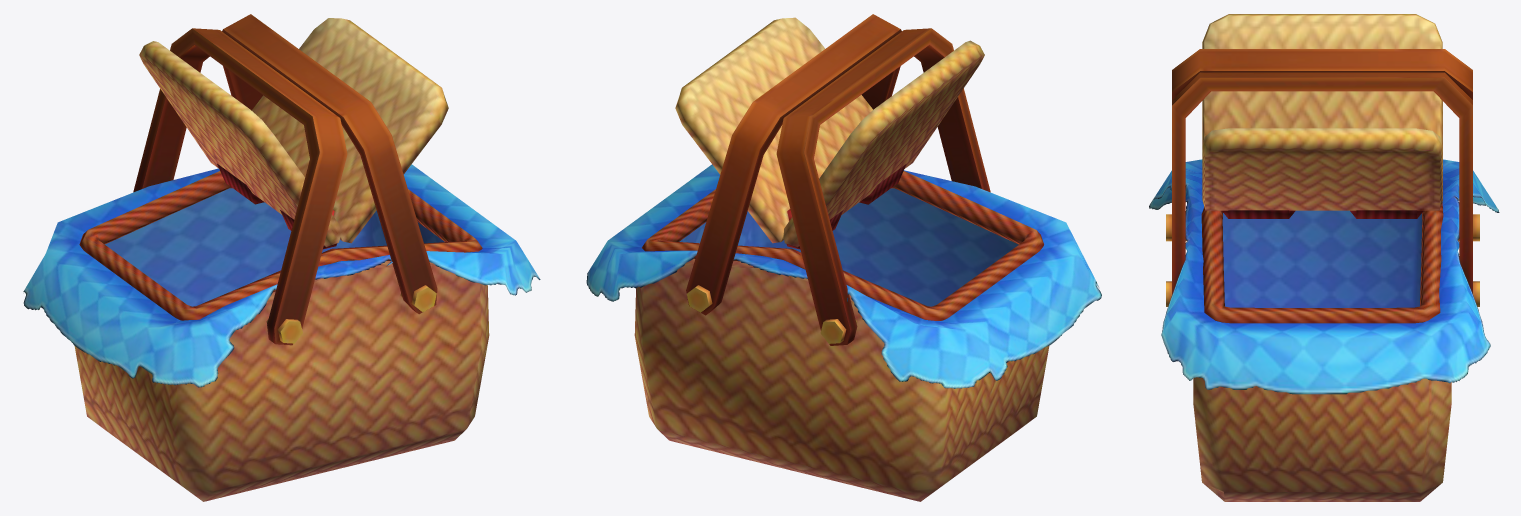
The model's file is SE_Basket_05.fbx.
3 views of the same model, side by side, from view 1: azimuth 30°, elevation 25°; view 2: azimuth 150°, elevation 25°; view 3: azimuth 270°, elevation 25° (orthographic).
Parts seen in each view (by area): view 1: SE_Basket_05; view 2: SE_Basket_05; view 3: SE_Basket_05.
Boxes of the visible parts, box(x1,y1,x2,y2) form: SE_Basket_05: box(23, 14, 540, 501); SE_Basket_05: box(586, 14, 1101, 501); SE_Basket_05: box(1149, 14, 1499, 501).
Bounding box in the file's own units: 2.73 × 2.38 × 2.06.
